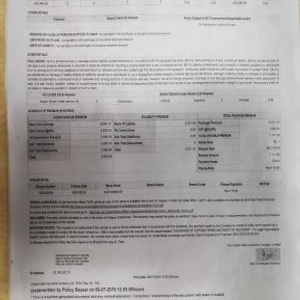table: (27, 110, 281, 175), (31, 89, 283, 111), (27, 181, 279, 196)
text: (28, 199, 281, 245), (27, 57, 282, 89), (24, 270, 227, 300), (28, 29, 174, 50), (54, 249, 91, 269)
